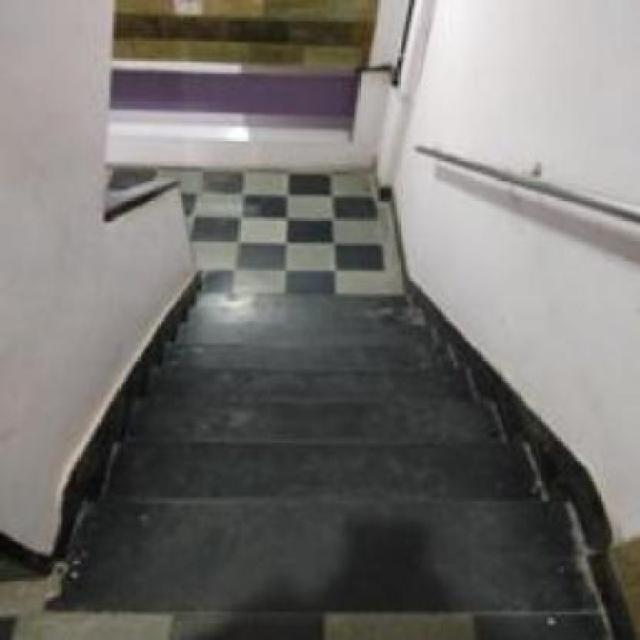stair: (90, 278, 568, 570)
